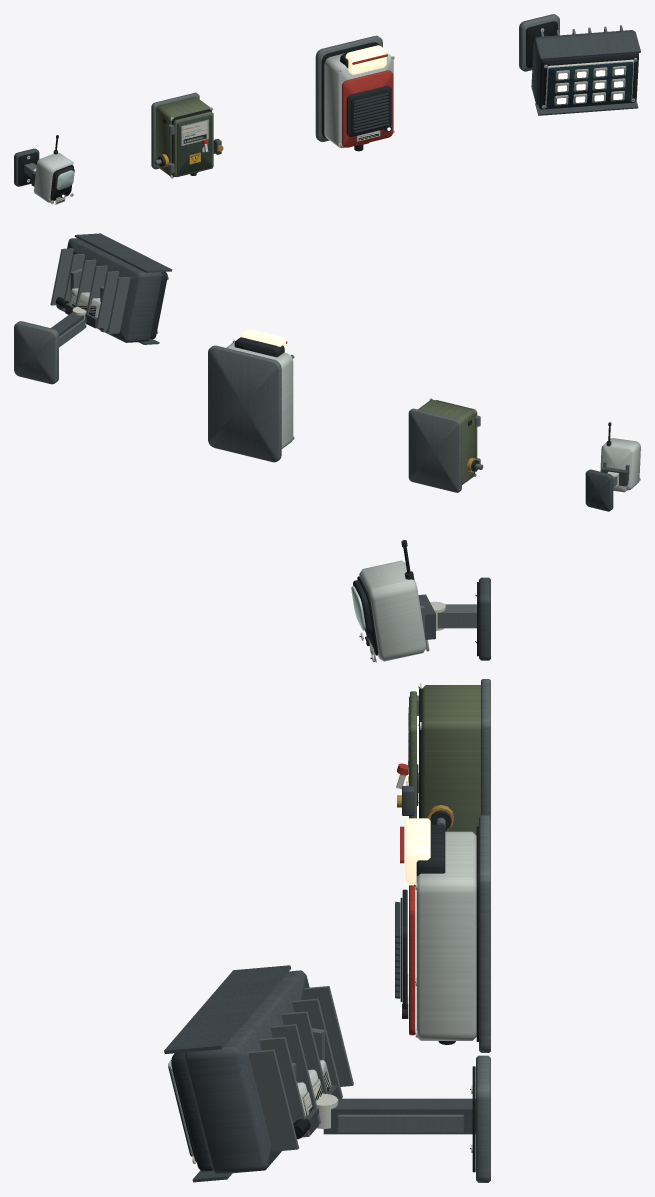
The model's file is PZ_Base_Security_Alarm_Complete_Kit.glb.
3 renders of one model, top to bottom at view 1: azimuth 30°, elevation 25°; view 2: azimuth 150°, elevation 25°; view 3: azimuth 270°, elevation 25°, orthographic. The views are drawn at different scales.
Parts seen in each view (by area): view 1: FLOOD_UpperVisor, FLOOD_GlassFace, SIREN_MainHousing, SIREN_FrontRedPanel, TRIPLINE_Enclosure, TRIPLINE_DoorInset, SIREN_WallBackplate, FLOOD_AnodizedFrame, PIR_MainABS_Housing, SIREN_SpeakerBlackCavity, SIREN_AlarmBeaconRed, FLOOD_LampHeatSinkBody (+12 smaller); view 2: SIREN_WallBackplate, TRIPLINE_WallPlate, FLOOD_LampHeatSinkBody, FLOOD_WallMount, SIREN_MainHousing, TRIPLINE_Enclosure, PIR_MainABS_Housing, FLOOD_UpperVisor, PIR_WallPlate, FLOOD_CoolingFin_0, FLOOD_CoolingFin_1, FLOOD_CoolingFin_5 (+5 smaller); view 3: SIREN_MainHousing, FLOOD_LampHeatSinkBody, TRIPLINE_Enclosure, FLOOD_UpperVisor, PIR_MainABS_Housing, FLOOD_SupportArm, SIREN_WallBackplate, FLOOD_CoolingFin_5, FLOOD_ArmWeb_R, FLOOD_WallMount, FLOOD_AnodizedFrame, FLOOD_CoolingFin_0 (+10 smaller).
Boxes of the visible parts, bbox=[...] form: FLOOD_UpperVisor: bbox=[535, 32, 640, 60]; FLOOD_GlassFace: bbox=[546, 62, 633, 108]; SIREN_MainHousing: bbox=[324, 52, 393, 148]; SIREN_FrontRedPanel: bbox=[342, 70, 393, 147]; TRIPLINE_Enclosure: bbox=[156, 96, 210, 176]; TRIPLINE_DoorInset: bbox=[177, 115, 212, 175]; SIREN_WallBackplate: bbox=[315, 35, 382, 141]; FLOOD_AnodizedFrame: bbox=[538, 53, 638, 109]; PIR_MainABS_Housing: bbox=[34, 152, 73, 202]; SIREN_SpeakerBlackCavity: bbox=[351, 90, 389, 134]; SIREN_AlarmBeaconRed: bbox=[345, 45, 386, 74]; FLOOD_LampHeatSinkBody: bbox=[531, 30, 638, 105]; SIREN_WallBackplate: bbox=[208, 345, 281, 462]; TRIPLINE_WallPlate: bbox=[408, 408, 461, 492]; FLOOD_LampHeatSinkBody: bbox=[56, 238, 162, 342]; FLOOD_WallMount: bbox=[14, 321, 58, 384]; SIREN_MainHousing: bbox=[226, 342, 293, 448]; TRIPLINE_Enclosure: bbox=[418, 400, 474, 484]; PIR_MainABS_Housing: bbox=[600, 438, 640, 490]; FLOOD_UpperVisor: bbox=[74, 233, 172, 272]; PIR_WallPlate: bbox=[585, 469, 613, 511]; FLOOD_CoolingFin_0: bbox=[107, 277, 130, 333]; FLOOD_CoolingFin_1: bbox=[96, 271, 119, 328]; FLOOD_CoolingFin_5: bbox=[50, 248, 73, 305]; SIREN_MainHousing: bbox=[416, 831, 476, 1040]; FLOOD_LampHeatSinkBody: bbox=[185, 970, 309, 1174]; TRIPLINE_Enclosure: bbox=[421, 685, 480, 835]; FLOOD_UpperVisor: bbox=[164, 965, 290, 1053]; PIR_MainABS_Housing: bbox=[359, 560, 426, 661]; FLOOD_SupportArm: bbox=[323, 1098, 475, 1134]; SIREN_WallBackplate: bbox=[479, 815, 490, 1052]; FLOOD_CoolingFin_5: bbox=[248, 1049, 298, 1151]; FLOOD_ArmWeb_R: bbox=[338, 1114, 463, 1132]; FLOOD_WallMount: bbox=[476, 1055, 490, 1182]; FLOOD_AnodizedFrame: bbox=[171, 1052, 212, 1171]; FLOOD_CoolingFin_0: bbox=[303, 986, 353, 1086].
Bounding box in the file's own units: 2.07 × 0.3711 × 0.5224.
Materials: 2 (2 with a texture image).
